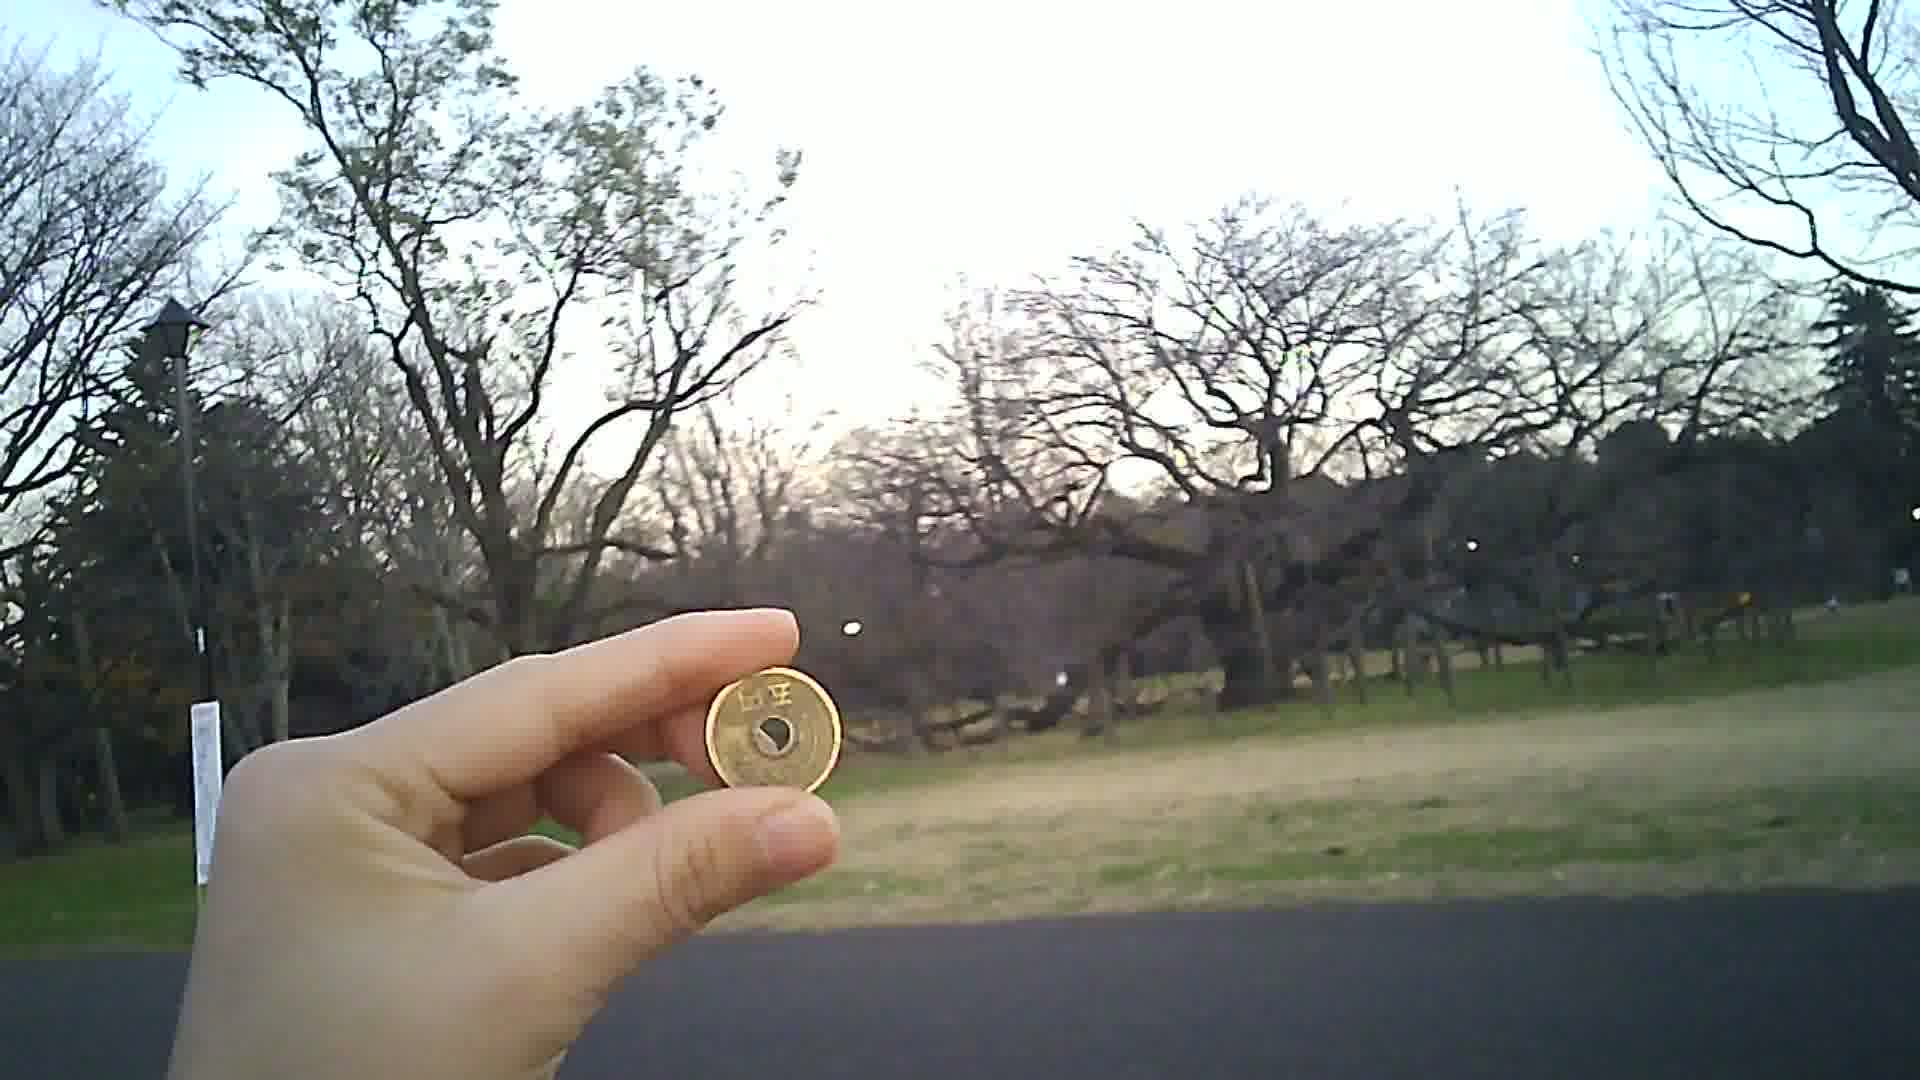5 Yen: (702, 653, 847, 796)
